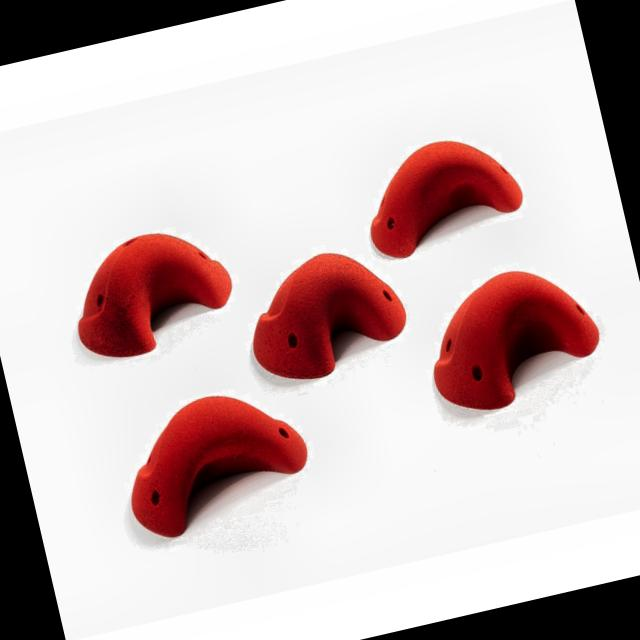Hold: (110, 385, 320, 540), (419, 252, 605, 422), (236, 237, 416, 389), (63, 214, 241, 364), (346, 124, 535, 262)
